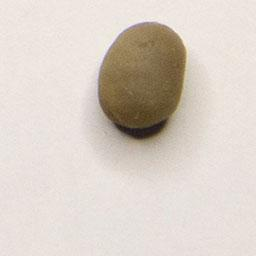peaberry: (95, 16, 191, 133)
